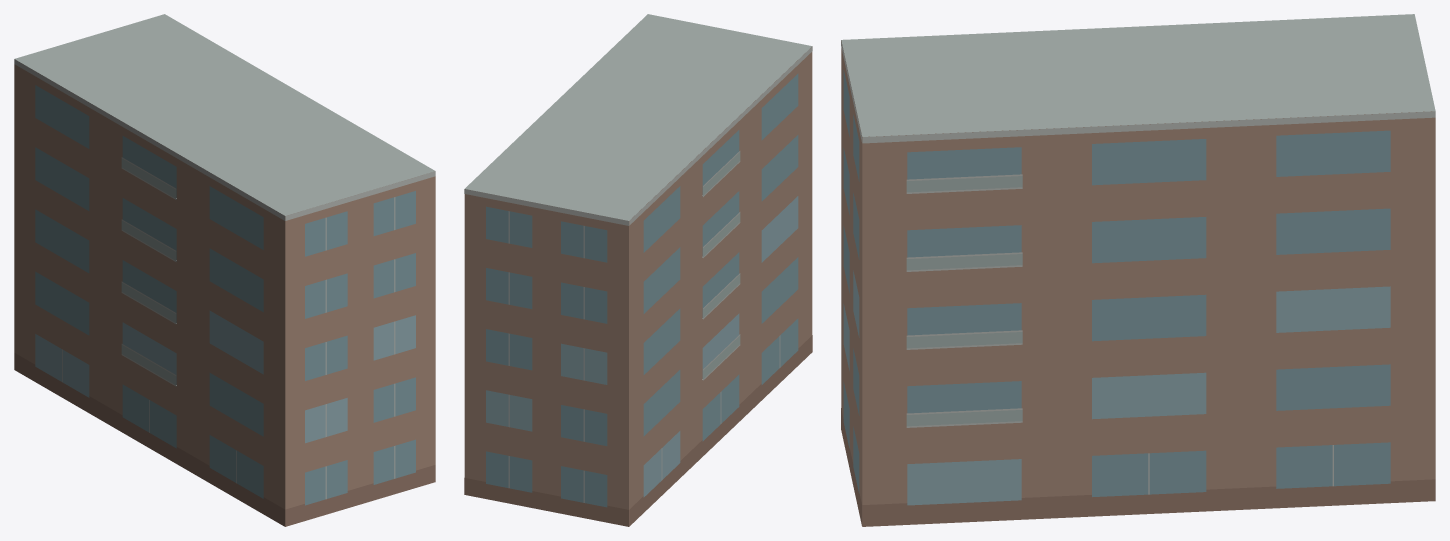
The model's file is survey-upis-32652876.glb.
The picture shows the model from 3 angles, left to right: view 1: azimuth 30°, elevation 25°; view 2: azimuth 150°, elevation 25°; view 3: azimuth 270°, elevation 25°; orthographic projection. The views are drawn at different scales.
Parts seen in each view (by area): view 1: survey-upis-32652876.tmp; view 2: survey-upis-32652876.tmp; view 3: survey-upis-32652876.tmp.
Boxes of the visible parts, <box> form: survey-upis-32652876.tmp: <box>14,14,435,526</box>; survey-upis-32652876.tmp: <box>464,14,812,526</box>; survey-upis-32652876.tmp: <box>841,14,1435,526</box>.
Bounding box in the file's own units: 10.03 × 14.8 × 20.46.
